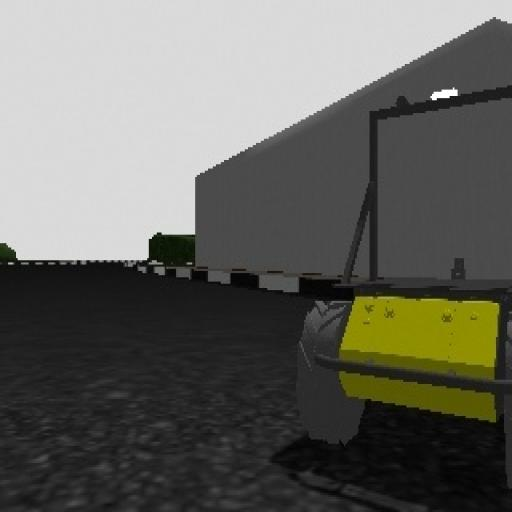huskya200: (313, 96, 512, 507)
